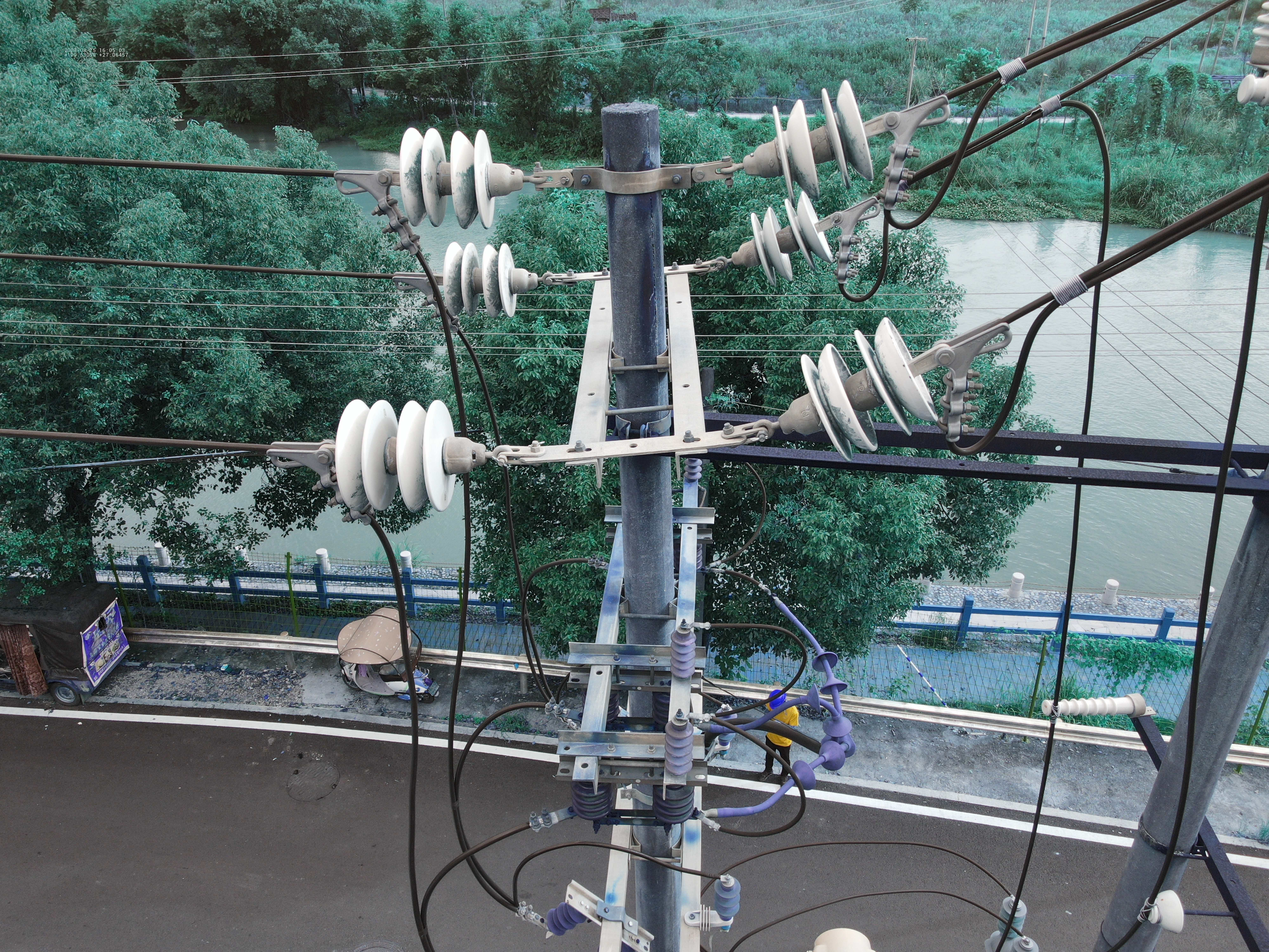severe_soiling_no_discharge_whole: (774, 314, 939, 463), (327, 396, 490, 517), (742, 76, 877, 203), (396, 124, 525, 229), (441, 236, 540, 322)
